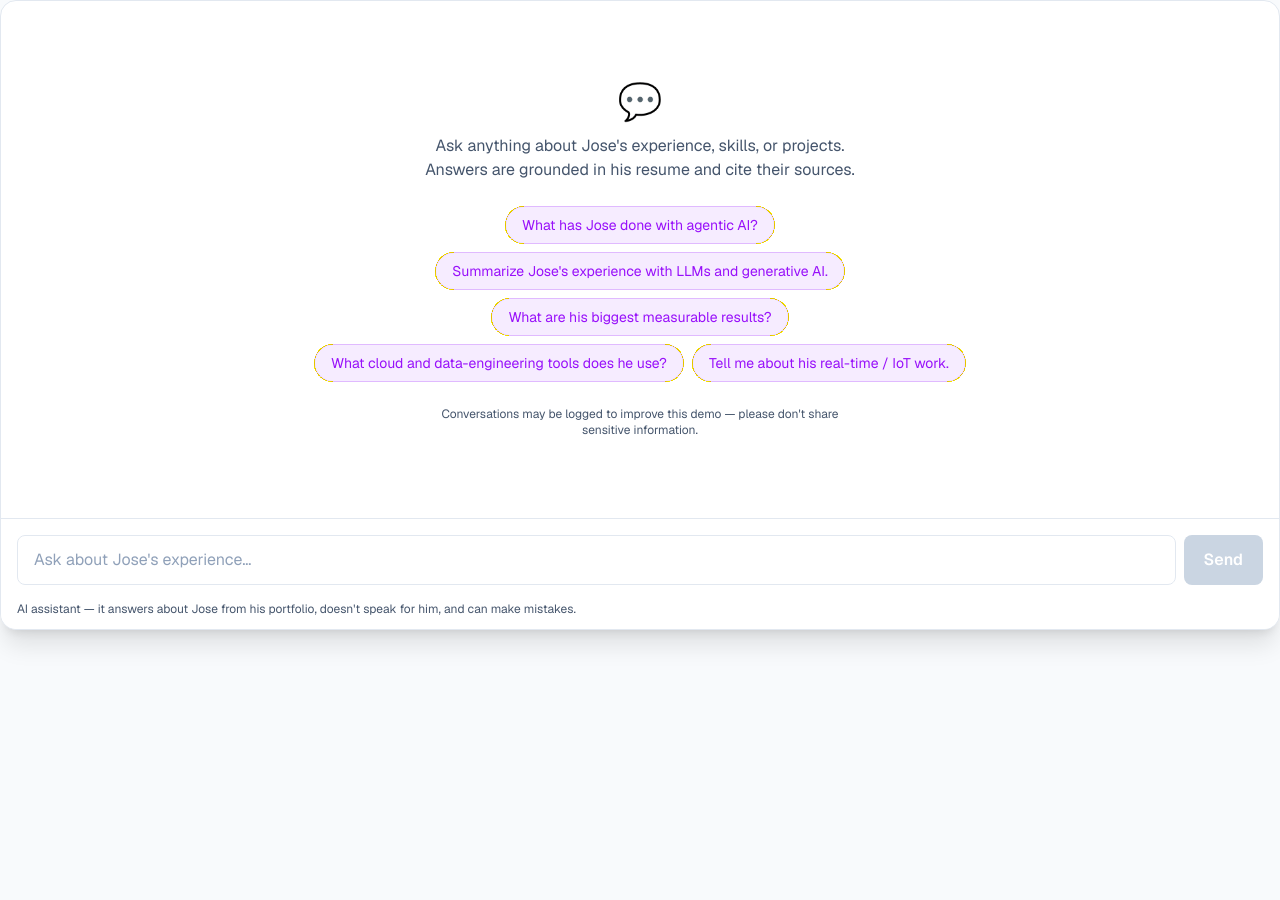
Test: AiChat (streaming) › streams a grounded answer token-by-token and shows sources
Click the button "What has Jose done with agentic AI?".
click(640, 224)  # box [505,206,775,244]
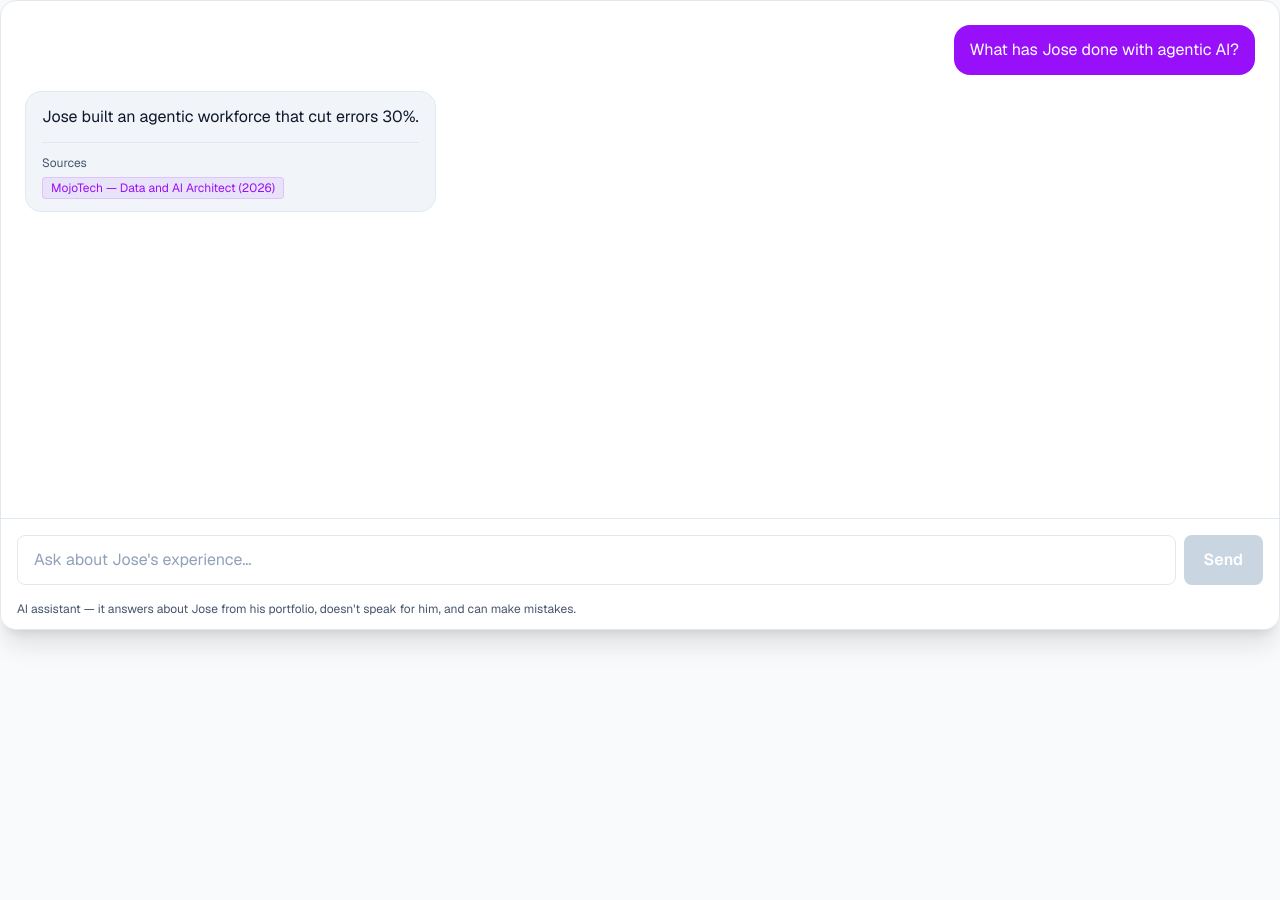
Expected: the text "What has Jose done with agentic AI?" is shown, [970,37,1239,63]
Expected: the text "Jose built an agentic workforce that cut errors 30%." is shown, [42,104,419,130]
Expected: the text "MojoTech — Data and AI Architect (2026)" is shown, [42,177,284,199]
